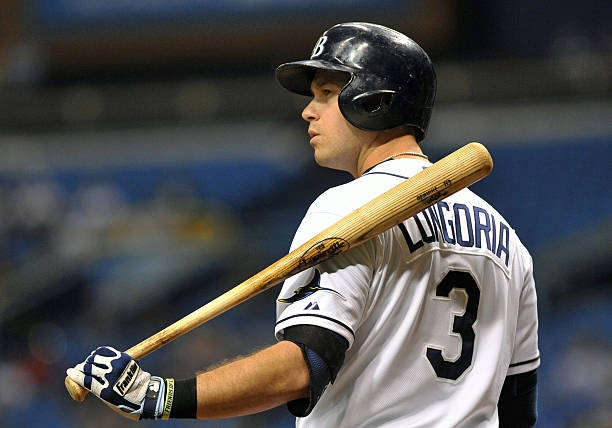bita: (72, 141, 495, 396)
